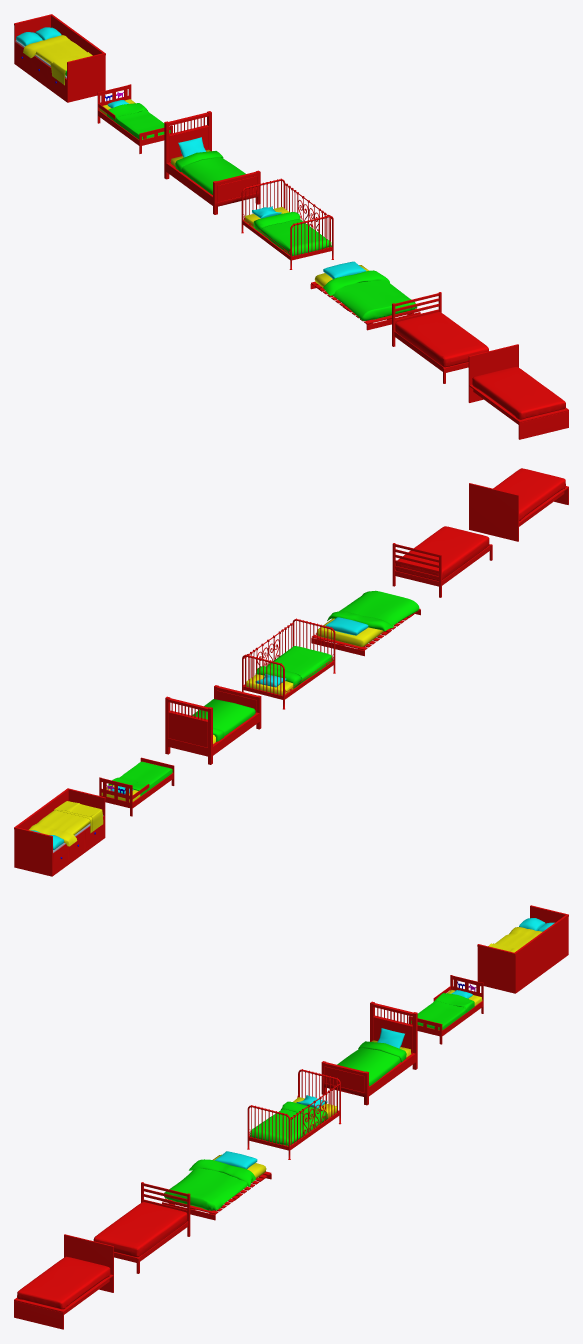
File: thorkea_beds_grp.fbx
3 views of the same model, one above another, from view 1: azimuth 30°, elevation 25°; view 2: azimuth 150°, elevation 25°; view 3: azimuth 330°, elevation 25° (orthographic).
Parts seen in each view (by area): view 1: thorkea_hemnes_day_bed, thorkea_bed_hemnes, thorkea_bed_meldal, thorkea_bed_grankulla, thorkea_bed_mattress_tarva, thorkea_bed_mattress_malm, thorkea_bed_malm, thorkea_bed_kritter, thorkea_bed_tarva; view 2: thorkea_hemnes_day_bed, thorkea_bed_hemnes, thorkea_bed_meldal, thorkea_bed_grankulla, thorkea_bed_malm, thorkea_bed_mattress_tarva, thorkea_bed_kritter, thorkea_bed_mattress_malm, thorkea_bed_tarva; view 3: thorkea_bed_hemnes, thorkea_hemnes_day_bed, thorkea_bed_grankulla, thorkea_bed_meldal, thorkea_bed_mattress_tarva, thorkea_bed_mattress_malm, thorkea_bed_malm, thorkea_bed_kritter, thorkea_bed_tarva.
Part boxes in pixels (left/top/right/bottom): thorkea_hemnes_day_bed: left=14, top=14, right=105, bottom=102; thorkea_bed_hemnes: left=164, top=111, right=260, bottom=214; thorkea_bed_meldal: left=241, top=178, right=333, bottom=269; thorkea_bed_grankulla: left=310, top=261, right=420, bottom=330; thorkea_bed_mattress_tarva: left=395, top=311, right=488, bottom=367; thorkea_bed_mattress_malm: left=472, top=367, right=565, bottom=419; thorkea_bed_malm: left=468, top=344, right=568, bottom=439; thorkea_bed_kritter: left=97, top=84, right=172, bottom=153; thorkea_bed_tarva: left=392, top=292, right=468, bottom=383; thorkea_hemnes_day_bed: left=14, top=788, right=105, bottom=876; thorkea_bed_hemnes: left=165, top=685, right=261, bottom=764; thorkea_bed_meldal: left=242, top=618, right=335, bottom=709; thorkea_bed_grankulla: left=311, top=590, right=420, bottom=656; thorkea_bed_malm: left=469, top=483, right=568, bottom=541; thorkea_bed_mattress_tarva: left=395, top=526, right=489, bottom=581; thorkea_bed_kritter: left=99, top=757, right=174, bottom=816; thorkea_bed_mattress_malm: left=493, top=468, right=565, bottom=520; thorkea_bed_tarva: left=392, top=543, right=492, bottom=597; thorkea_bed_hemnes: left=321, top=1001, right=417, bottom=1105; thorkea_hemnes_day_bed: left=477, top=905, right=568, bottom=993; thorkea_bed_grankulla: left=162, top=1151, right=271, bottom=1220; thorkea_bed_meldal: left=247, top=1069, right=341, bottom=1159; thorkea_bed_mattress_tarva: left=93, top=1202, right=187, bottom=1257; thorkea_bed_mattress_malm: left=17, top=1256, right=110, bottom=1309; thorkea_bed_malm: left=14, top=1234, right=113, bottom=1329; thorkea_bed_kritter: left=408, top=975, right=483, bottom=1044; thorkea_bed_tarva: left=114, top=1182, right=190, bottom=1273.
Size of the model in its own units: 138 by 121 by 2005.
